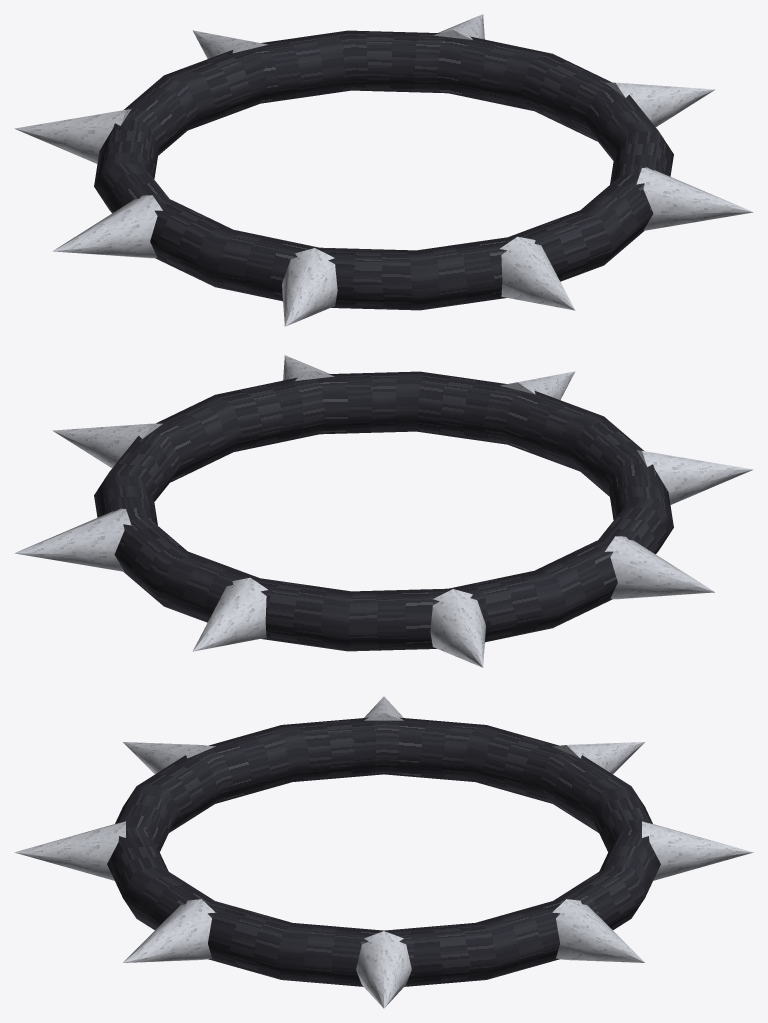
The model's file is collar_de_pinchos.glb.
3 renders of one model, top to bottom at view 1: azimuth 30°, elevation 25°; view 2: azimuth 150°, elevation 25°; view 3: azimuth 270°, elevation 25°, orthographic. The views are drawn at different scales.
Parts seen in each view (by area): view 1: _MeshInstance3D_240, _MeshInstance3D_247, _MeshInstance3D_242, _MeshInstance3D_241, _MeshInstance3D_248, _MeshInstance3D_246, _MeshInstance3D_243, _MeshInstance3D_245, _MeshInstance3D_244; view 2: _MeshInstance3D_240, _MeshInstance3D_247, _MeshInstance3D_244, _MeshInstance3D_245, _MeshInstance3D_246, _MeshInstance3D_248, _MeshInstance3D_243, _MeshInstance3D_241, _MeshInstance3D_242; view 3: _MeshInstance3D_240, _MeshInstance3D_242, _MeshInstance3D_244, _MeshInstance3D_241, _MeshInstance3D_245, _MeshInstance3D_243, _MeshInstance3D_246, _MeshInstance3D_248, _MeshInstance3D_247.
Part boxes in pixels (box(x1,y1,x2,y2)): _MeshInstance3D_240: box(94, 30, 673, 310); _MeshInstance3D_247: box(53, 195, 162, 258); _MeshInstance3D_242: box(636, 167, 753, 230); _MeshInstance3D_241: box(500, 236, 575, 310); _MeshInstance3D_248: box(282, 248, 337, 326); _MeshInstance3D_246: box(14, 109, 131, 163); _MeshInstance3D_243: box(605, 82, 714, 126); _MeshInstance3D_245: box(192, 30, 267, 58); _MeshInstance3D_244: box(433, 14, 484, 39); _MeshInstance3D_240: box(94, 371, 673, 651); _MeshInstance3D_247: box(605, 536, 714, 599); _MeshInstance3D_244: box(14, 508, 131, 571); _MeshInstance3D_245: box(192, 577, 267, 651); _MeshInstance3D_246: box(430, 589, 485, 667); _MeshInstance3D_248: box(636, 450, 753, 504); _MeshInstance3D_243: box(53, 423, 162, 467); _MeshInstance3D_241: box(500, 371, 575, 399); _MeshInstance3D_242: box(283, 355, 334, 380); _MeshInstance3D_240: box(107, 717, 660, 986); _MeshInstance3D_242: box(123, 899, 215, 962); _MeshInstance3D_244: box(552, 899, 644, 962); _MeshInstance3D_241: box(14, 821, 125, 880); _MeshInstance3D_245: box(642, 821, 753, 880); _MeshInstance3D_243: box(356, 931, 411, 1008); _MeshInstance3D_246: box(552, 742, 644, 774); _MeshInstance3D_248: box(123, 742, 215, 774); _MeshInstance3D_247: box(364, 696, 403, 720).
Size of the model in its own units: 0.33 by 0.03 by 0.33.
2 materials, 2 textured.
